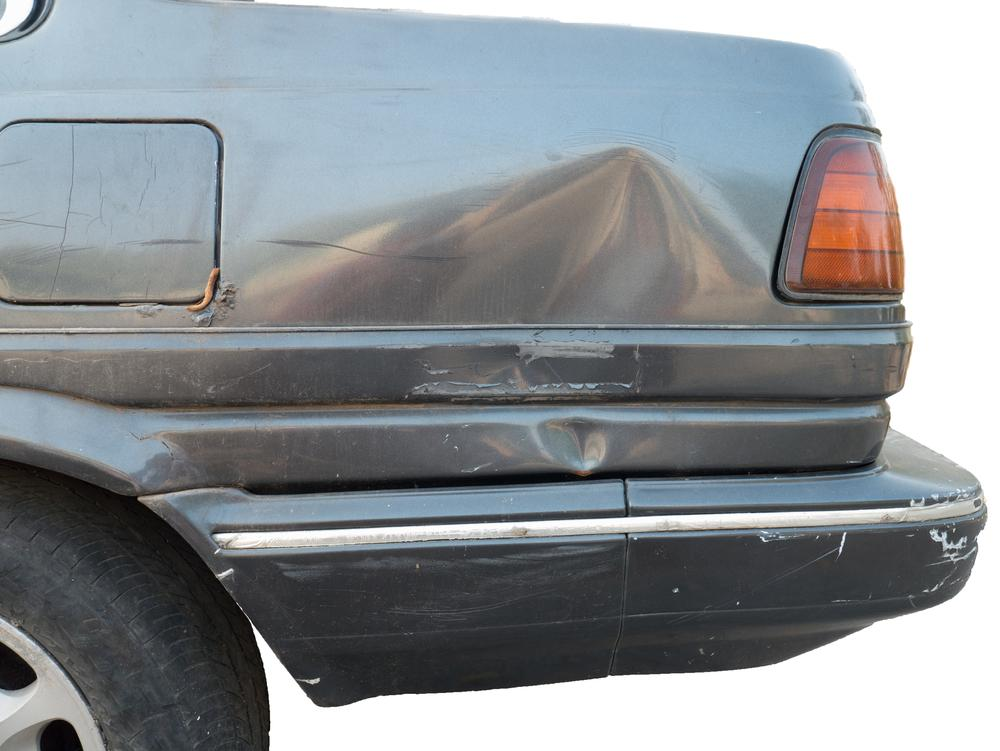dent: (249, 149, 774, 326), (534, 416, 610, 471)
scratch: (907, 482, 989, 567)
